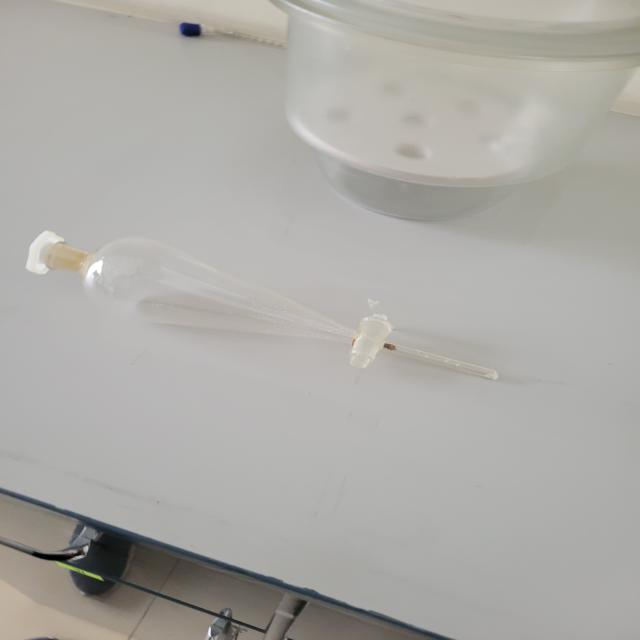Separating_Funnel: (19, 197, 530, 408)
